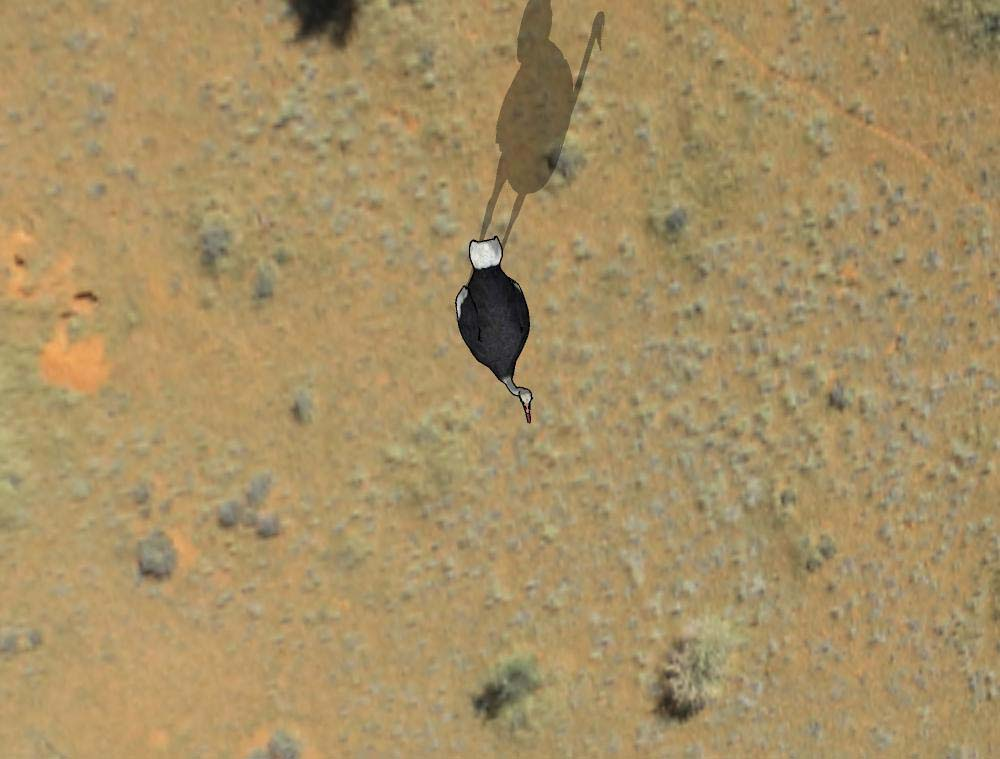springbok: (444, 234, 551, 429)
